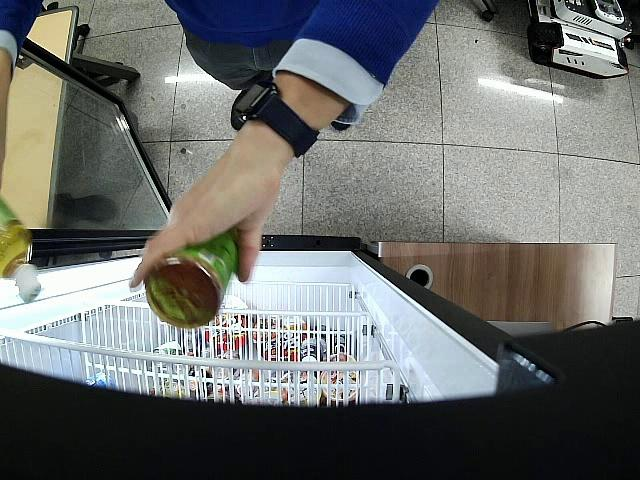00_hand: (123, 139, 283, 281)
19_17cha: (144, 231, 238, 331), (0, 197, 40, 304)
